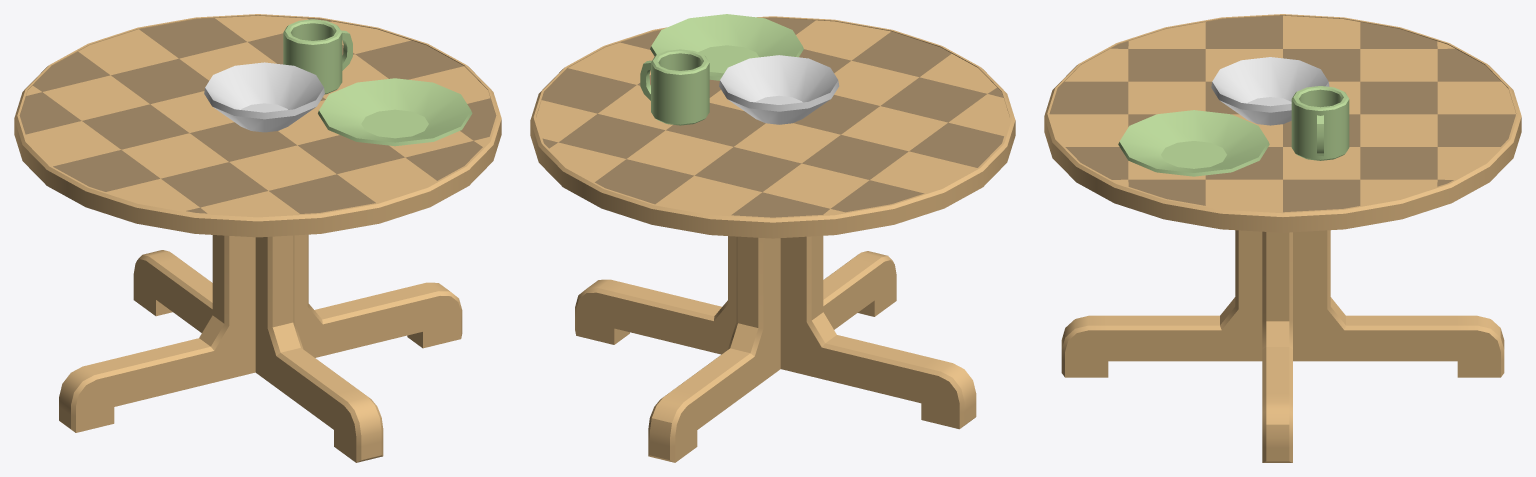
Rendered from dinner_solo_01.fbx.
The picture shows the model from 3 angles, left to right: view 1: azimuth 30°, elevation 25°; view 2: azimuth 150°, elevation 25°; view 3: azimuth 270°, elevation 25°; orthographic projection. The views are drawn at different scales.
Parts seen in each view (by area): view 1: polySurface94, polySurface78, pCylinder157, pCylinder135; view 2: polySurface94, polySurface78, pCylinder157, pCylinder135; view 3: polySurface94, polySurface78, pCylinder157, pCylinder135.
Boxes of the visible parts, x1=… form: polySurface94: x1=14, y1=14, x2=501, y2=462; polySurface78: x1=20, y1=18, x2=495, y2=213; pCylinder157: x1=283, y1=19, x2=472, y2=146; pCylinder135: x1=204, y1=62, x2=324, y2=132; polySurface94: x1=530, y1=16, x2=1015, y2=462; polySurface78: x1=541, y1=18, x2=1003, y2=217; pCylinder157: x1=640, y1=14, x2=803, y2=125; pCylinder135: x1=719, y1=55, x2=839, y2=124; polySurface94: x1=1044, y1=14, x2=1521, y2=462; polySurface78: x1=1050, y1=15, x2=1515, y2=212; pCylinder157: x1=1118, y1=86, x2=1349, y2=176; pCylinder135: x1=1211, y1=57, x2=1329, y2=125.
Size of the model in its own units: 8.47 by 6.05 by 8.47.
